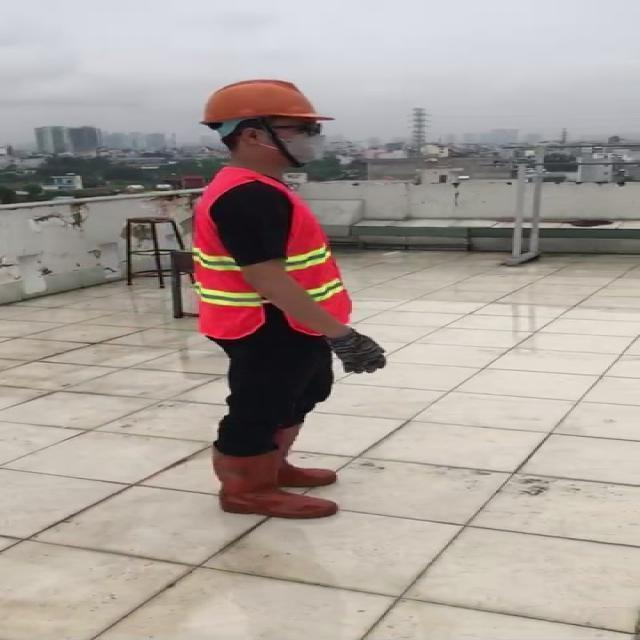gloves: (323, 325, 387, 376)
goggles: (262, 120, 326, 139)
helmet: (197, 76, 326, 130)
safety_vest: (191, 169, 355, 338)
